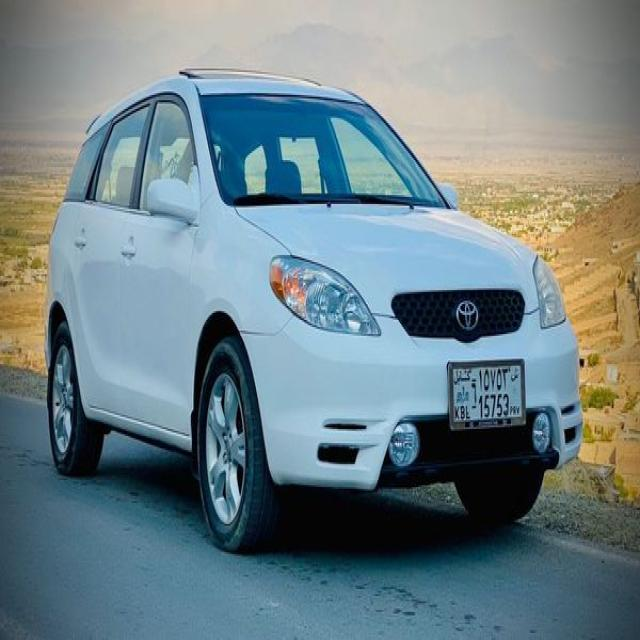Plate: (447, 360, 528, 428)
